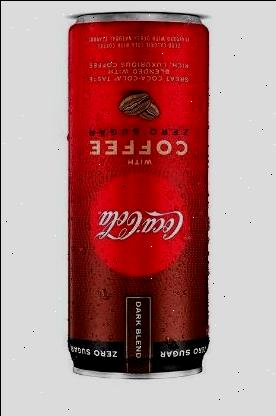Can: (65, 9, 211, 380)
